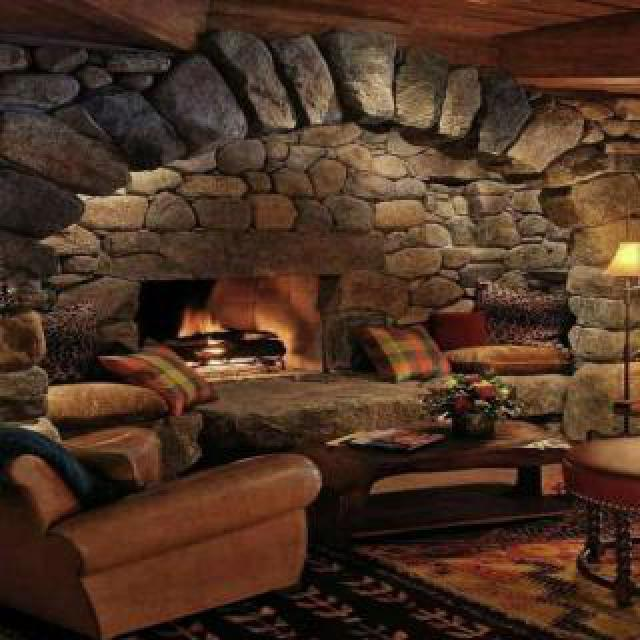Fire: (150, 286, 246, 352)
